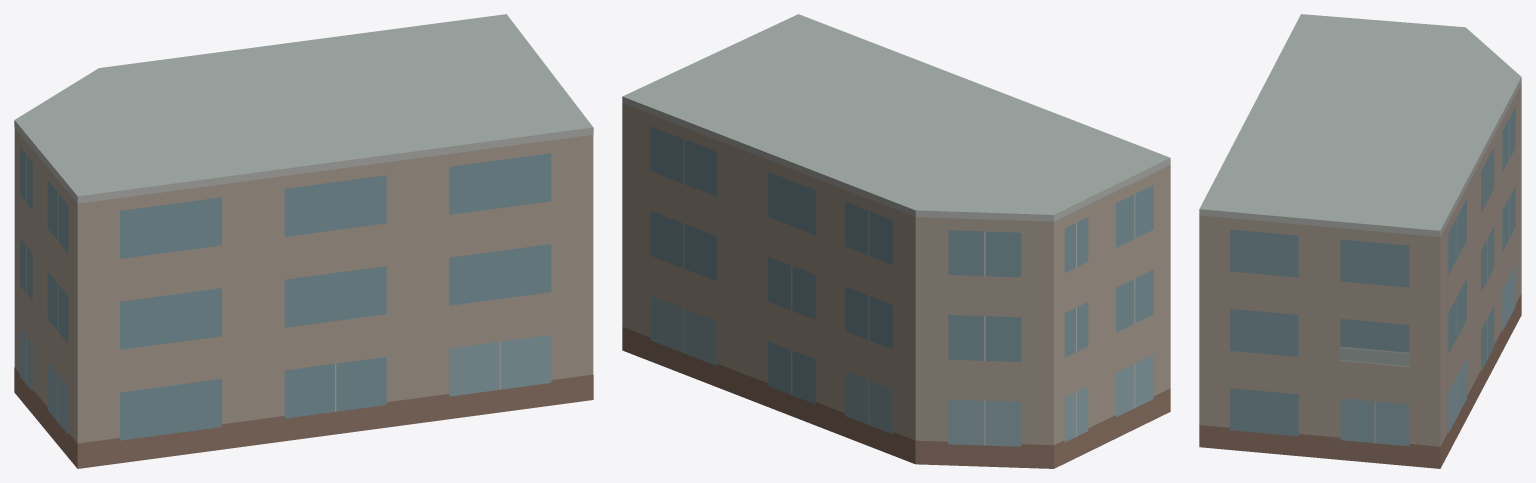
File: survey-upis-32544065.glb
The picture shows the model from 3 angles, left to right: view 1: azimuth 30°, elevation 25°; view 2: azimuth 150°, elevation 25°; view 3: azimuth 270°, elevation 25°; orthographic projection. The views are drawn at different scales.
Visible parts, largest first — view 1: survey-upis-32544065.tmp; view 2: survey-upis-32544065.tmp; view 3: survey-upis-32544065.tmp.
Boxes of the visible parts, x1=… form: survey-upis-32544065.tmp: x1=14, y1=14, x2=593, y2=468; survey-upis-32544065.tmp: x1=622, y1=14, x2=1170, y2=468; survey-upis-32544065.tmp: x1=1199, y1=14, x2=1521, y2=468.
Bounding box in the file's own units: 17.89 × 9.15 × 11.24.
